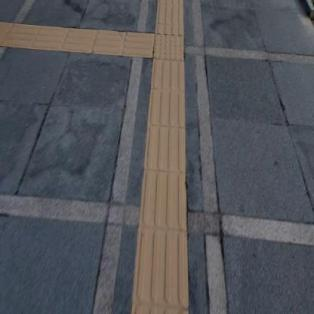Podoctatil: (130, 62, 190, 314), (0, 20, 153, 58), (137, 17, 200, 87), (157, 0, 185, 34)
